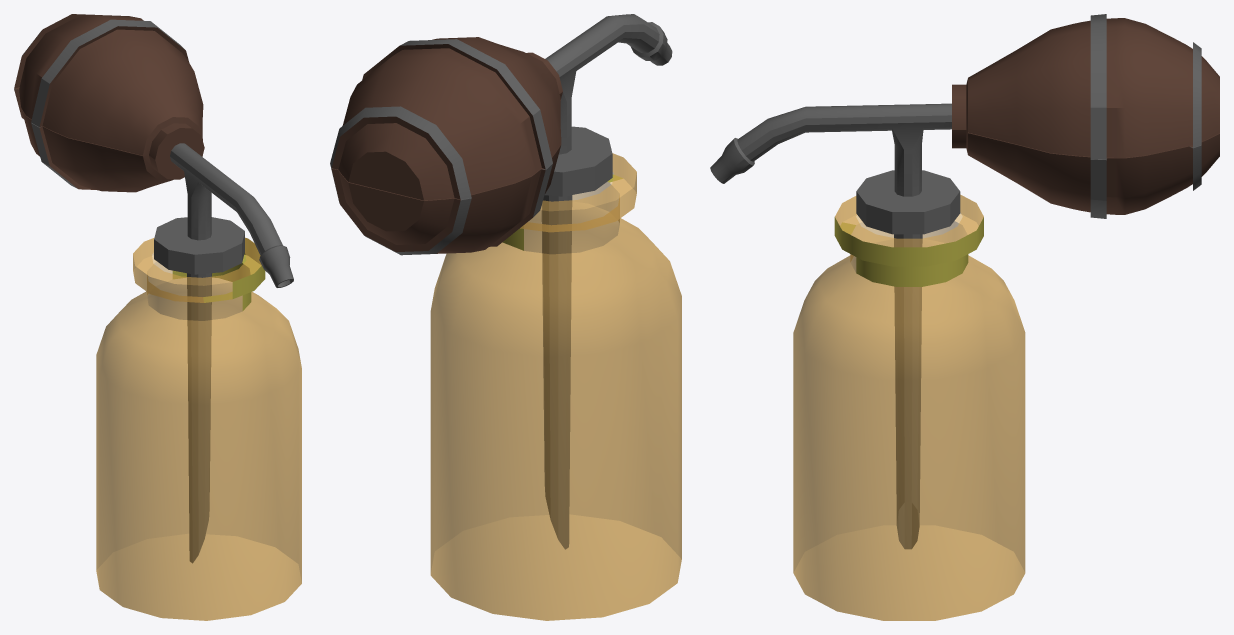
File: syrup.fbx
3 renders of one model, left to right at view 1: azimuth 30°, elevation 25°; view 2: azimuth 150°, elevation 25°; view 3: azimuth 270°, elevation 25°, orthographic. The views are drawn at different scales.
Parts seen in each view (by area): view 1: Circle; view 2: Circle; view 3: Circle.
Part boxes in pixels (left/top/right/bottom): Circle: left=14, top=14, right=301, bottom=620; Circle: left=330, top=14, right=681, bottom=620; Circle: left=710, top=14, right=1219, bottom=620.
Bounding box in the file's own units: 0.7171 × 1.92 × 1.62.
